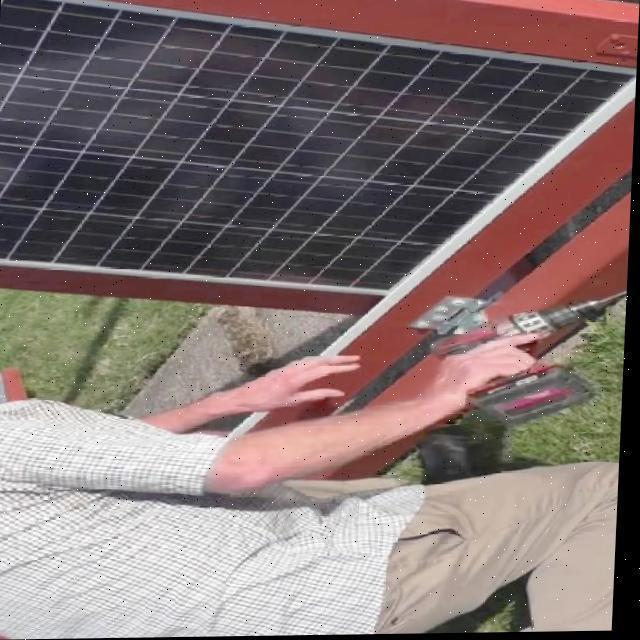Normal Solar Panel: (0, 0, 640, 303)
